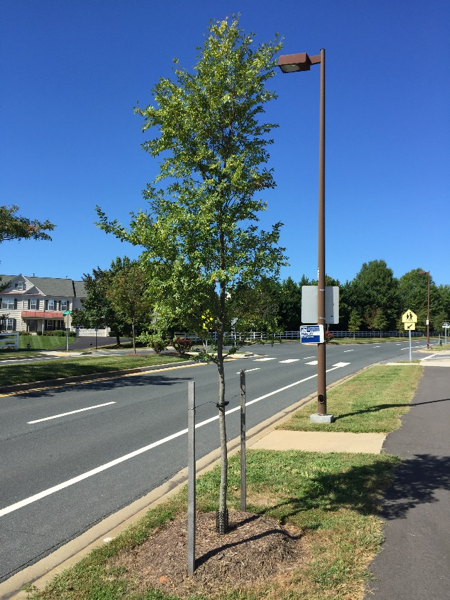Tree: (131, 21, 304, 530)
